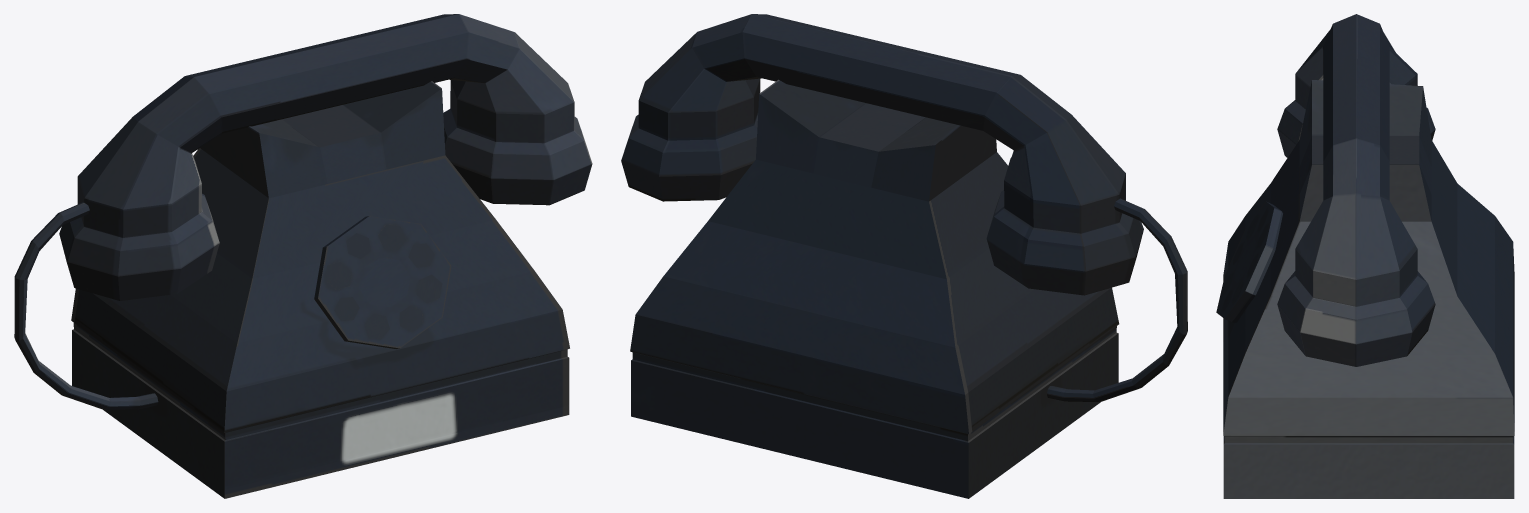
Rendered from telefone.fbx.
3 views of the same model, side by side, from view 1: azimuth 30°, elevation 25°; view 2: azimuth 150°, elevation 25°; view 3: azimuth 270°, elevation 25° (orthographic). The views are drawn at different scales.
Parts seen in each view (by area): view 1: Cylinder; view 2: Cylinder; view 3: Cylinder.
Boxes of the visible parts, left/top/right/bottom form: Cylinder: left=14, top=14, right=592, bottom=498; Cylinder: left=621, top=14, right=1187, bottom=498; Cylinder: left=1216, top=14, right=1514, bottom=498.
Bounding box in the file's own units: 195 × 118 × 93.18.
1 material, 1 textured.
